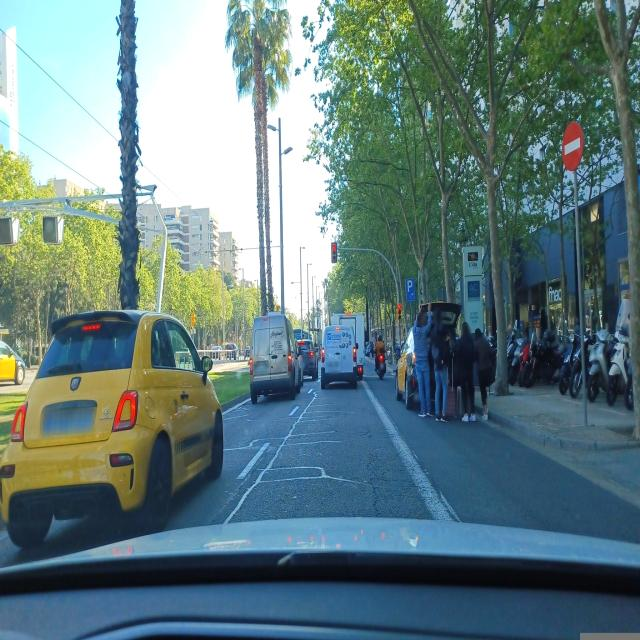bike: (586, 332, 634, 407), (523, 337, 565, 387), (558, 331, 590, 395), (374, 348, 387, 378)
car: (1, 306, 225, 543), (400, 300, 462, 408), (249, 312, 303, 403), (320, 322, 359, 390), (396, 319, 418, 406), (1, 329, 27, 386), (296, 338, 318, 380)
